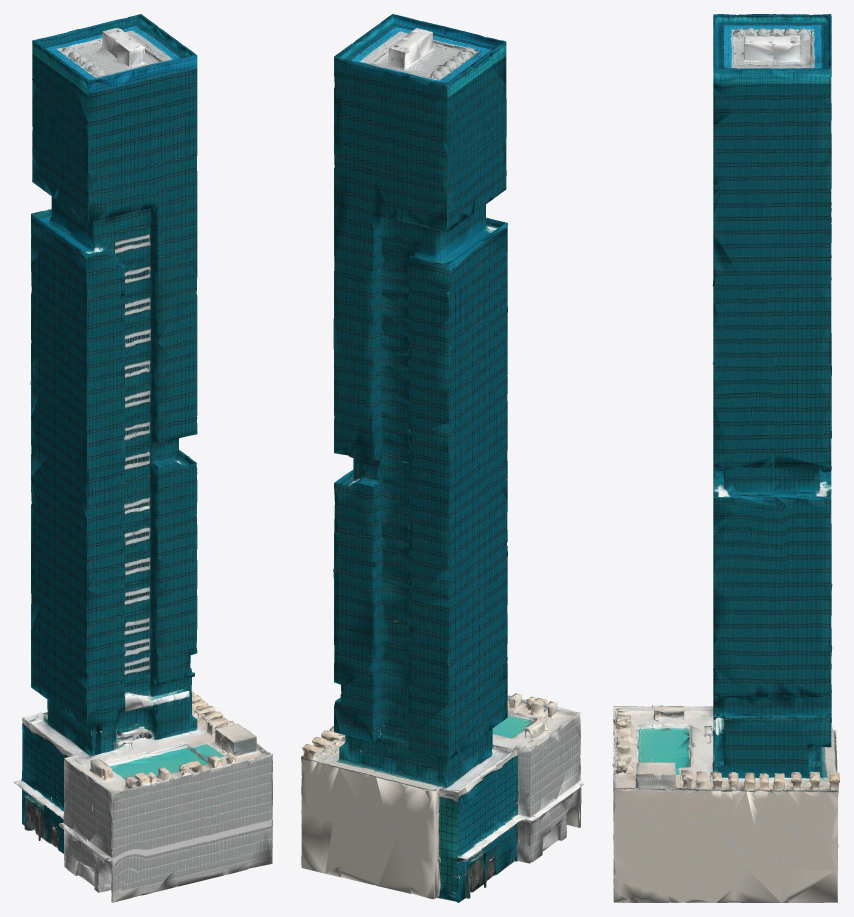
Rendered from first-hotel-jvc.glb.
3 renders of one model, left to right at view 1: azimuth 30°, elevation 25°; view 2: azimuth 150°, elevation 25°; view 3: azimuth 270°, elevation 25°, orthographic. The views are drawn at different scales.
Parts seen in each view (by area): view 1: Mesh_0; view 2: Mesh_0; view 3: Mesh_0.
Part boxes in pixels (x1,y1,x2,y2): Mesh_0: [14, 14, 272, 902]; Mesh_0: [301, 14, 583, 902]; Mesh_0: [612, 14, 839, 902].
Bounding box in the file's own units: 35 × 160 × 40.
Materials: 1 (1 with a texture image).
